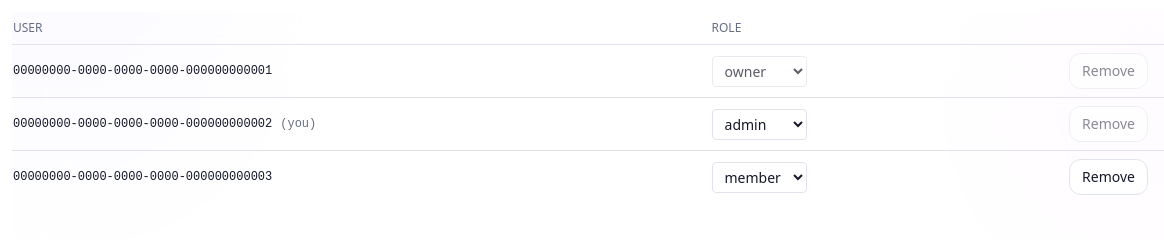
Scenario: MembersTable › shows an error when the mutation rejects
What coordinates should you click on to do the following:
click the button with test id "members-remove"
I would click on:
 (1109, 177)
Its box is [1069, 159, 1148, 195].
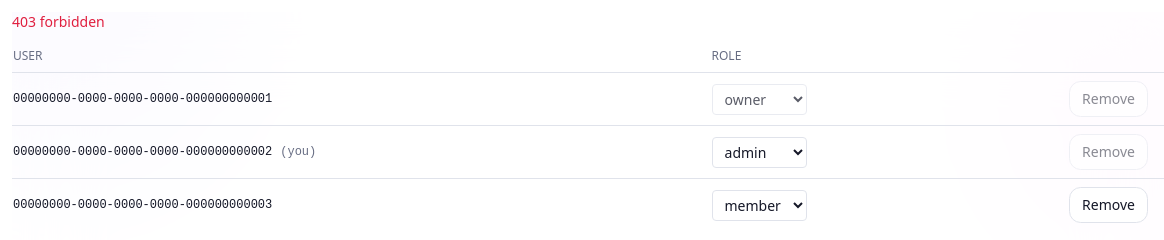
Result: the message reads "403 forbidden" at [12, 12, 105, 31]
